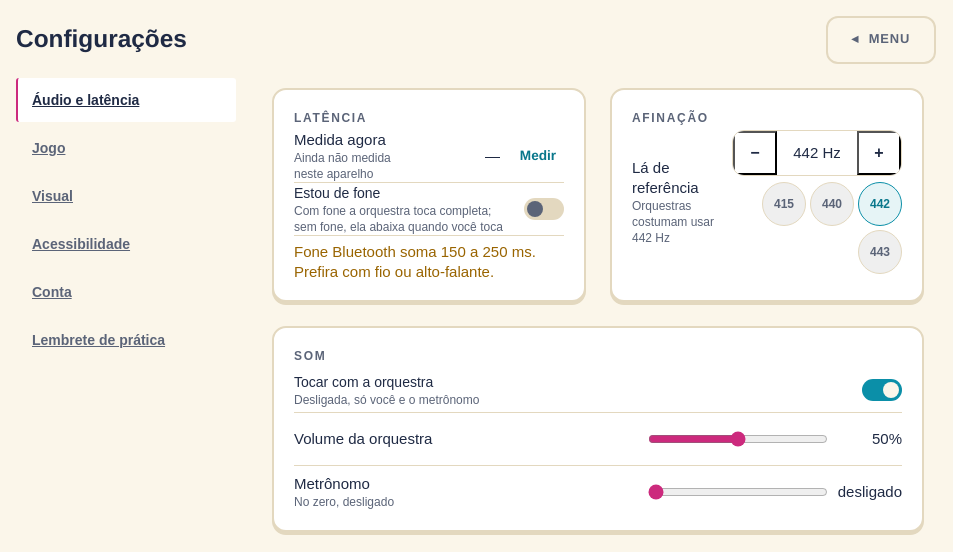
Settings › Lá: −/+ de 1 Hz, atalhos e limites 415–466, guardado no aparelho
Check: the text "442 Hz" is shown, box [793,144,841,161]
What coordinates should you click on to do the following:
click the button named "Aumentar 1 Hz"
I would click on:
 (879, 153)
Its box is [857,131,901,175].
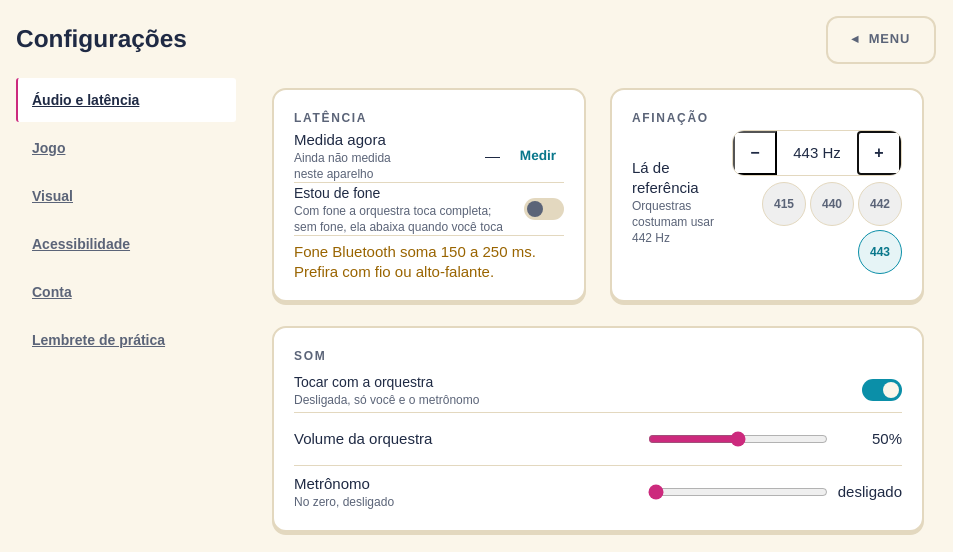
What coordinates should you click on to do the following:
click the button "415"
I would click on:
 (784, 204)
Its box is [762,182,806,226].
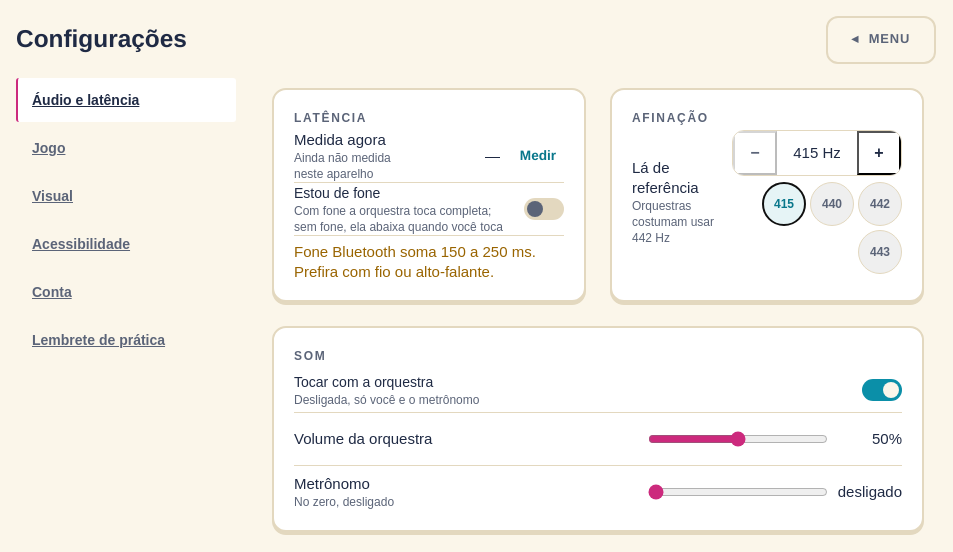
Check: the button named "Diminuir 1 Hz" is disabled, box [733,131,777,175]
Check: the text "415 Hz" is shown, box [793,144,841,161]
